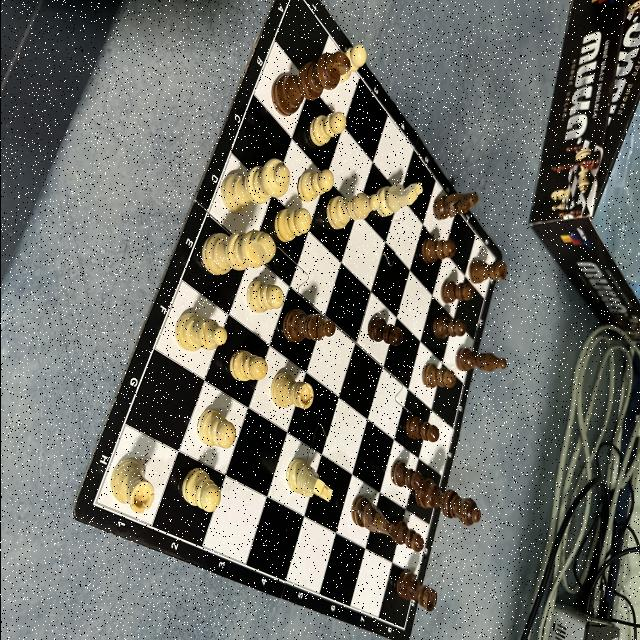Black-Bishop: (282, 310, 334, 342), (456, 347, 506, 371)
Black-King: (270, 52, 350, 115)
Black-Knight: (351, 496, 398, 541), (432, 192, 478, 220)
Black-Pawn: (390, 520, 424, 552), (368, 316, 400, 347), (391, 460, 424, 490), (404, 414, 438, 442), (420, 362, 454, 388), (418, 238, 454, 262), (432, 316, 464, 340), (440, 282, 472, 304)
Black-Queen: (416, 477, 480, 526)
Black-Rook: (396, 570, 437, 612), (468, 258, 506, 284)
White-Bishop: (175, 312, 227, 354), (325, 192, 379, 228)
White-King: (200, 231, 276, 275)
White-Knight: (285, 458, 333, 502), (373, 181, 421, 217)
White-Pawn: (182, 467, 220, 512), (195, 412, 236, 448), (294, 168, 334, 202), (331, 44, 366, 82), (308, 113, 346, 147), (246, 281, 286, 313), (228, 350, 266, 382), (274, 210, 312, 240)
White-Queen: (220, 160, 290, 212)
White-Rook: (109, 460, 154, 514), (270, 372, 314, 410)
